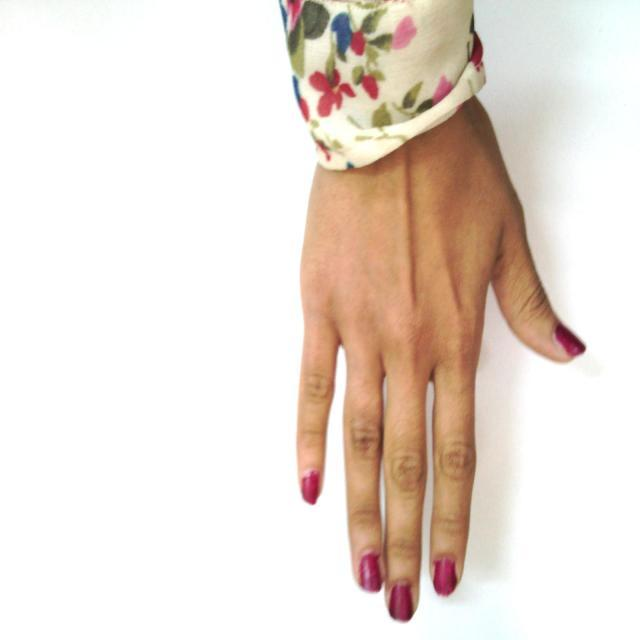Fingernail: (556, 323, 585, 356), (390, 583, 413, 622), (434, 557, 456, 597), (360, 554, 381, 592), (302, 473, 318, 504)
